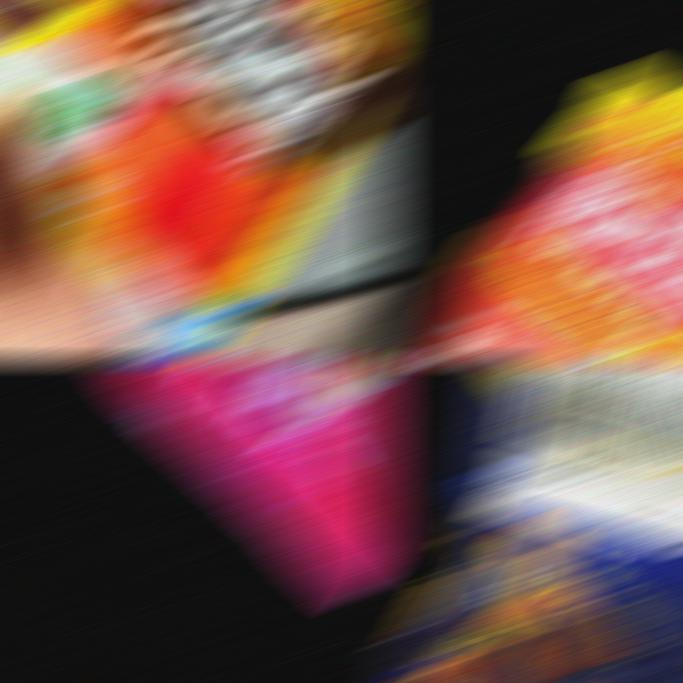Datu Puti Patis: (403, 66, 683, 358)
Datu Puti soy sauce: (0, 3, 400, 357)
cheezy: (378, 364, 683, 680)
pancit canton sweet and spicy: (100, 364, 400, 601)
